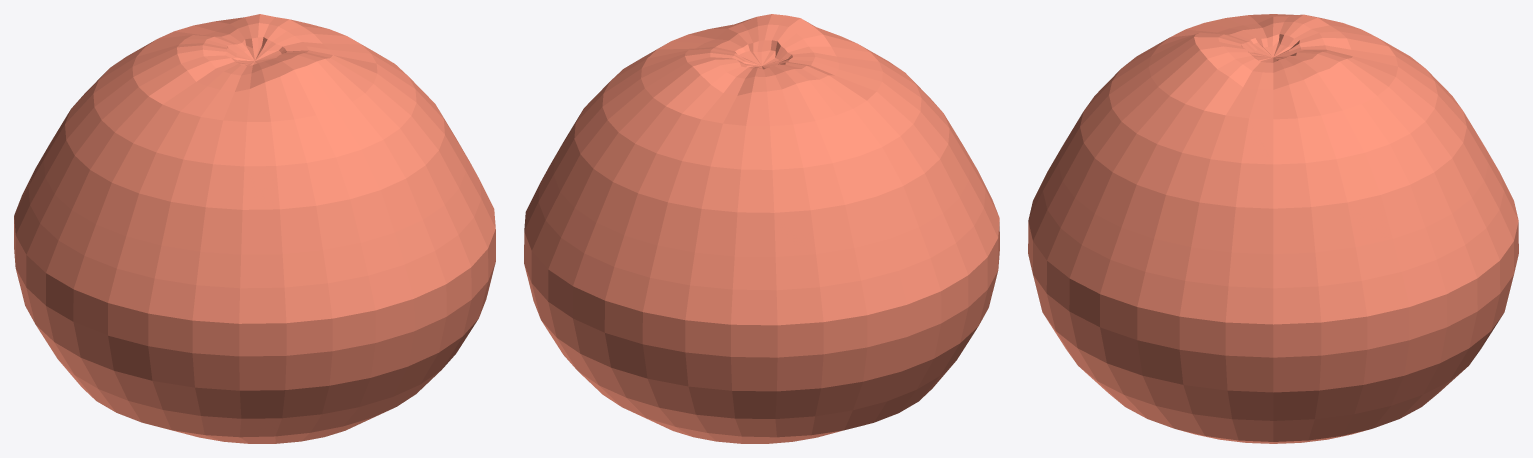
File: pessego.fbx
3 views of the same model, side by side, from view 1: azimuth 30°, elevation 25°; view 2: azimuth 150°, elevation 25°; view 3: azimuth 270°, elevation 25° (orthographic). The views are drawn at different scales.
Visible parts, largest first — view 1: Sphere; view 2: Sphere; view 3: Sphere.
Boxes of the visible parts, x1=… form: Sphere: x1=14, y1=14, x2=495, y2=443; Sphere: x1=524, y1=14, x2=999, y2=443; Sphere: x1=1028, y1=14, x2=1518, y2=443.
Bounding box in the file's own units: 236 × 204 × 236.
